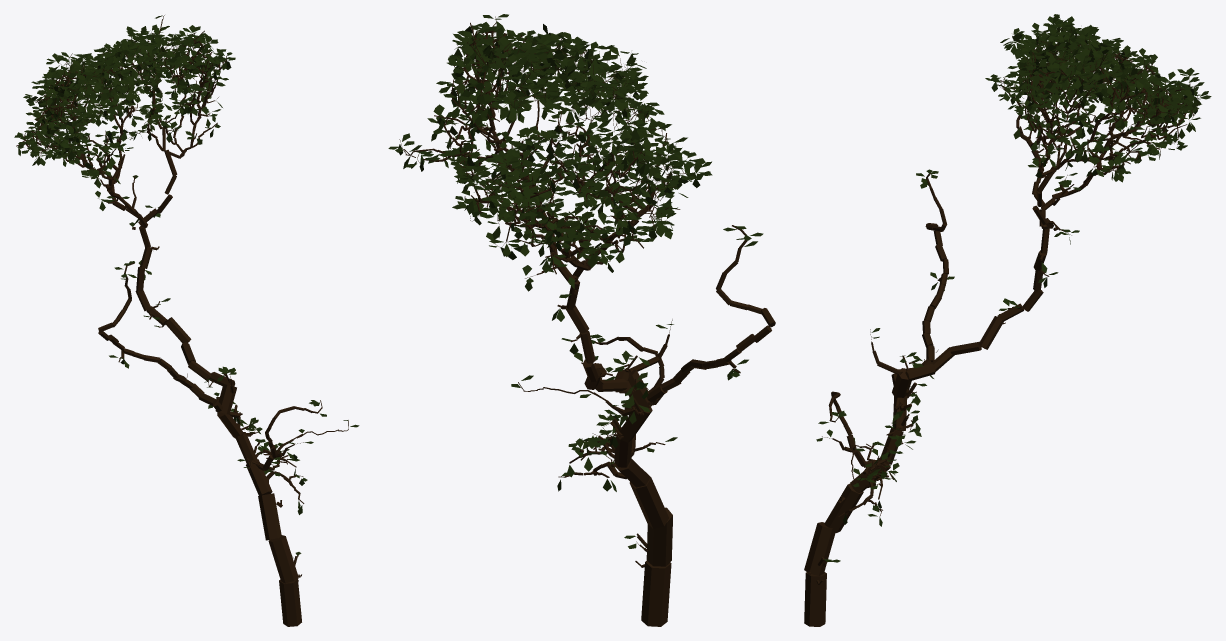
The model's file is tree_169.obj.
3 views of the same model, side by side, from view 1: azimuth 30°, elevation 25°; view 2: azimuth 150°, elevation 25°; view 3: azimuth 270°, elevation 25° (orthographic). The views are drawn at different scales.
Visible parts, largest first — view 1: Leaves, TrunkAndBranches; view 2: Leaves, TrunkAndBranches; view 3: Leaves, TrunkAndBranches.
Boxes of the visible parts, left/top/right/bottom form: Leaves: left=14, top=15, right=359, bottom=556; TrunkAndBranches: left=16, top=15, right=348, bottom=626; Leaves: left=388, top=14, right=763, bottom=548; TrunkAndBranches: left=399, top=16, right=775, bottom=626; Leaves: left=816, top=14, right=1211, bottom=562; TrunkAndBranches: left=804, top=18, right=1198, bottom=626.
Bounding box in the file's own units: 6.82 × 14.73 × 9.45.
